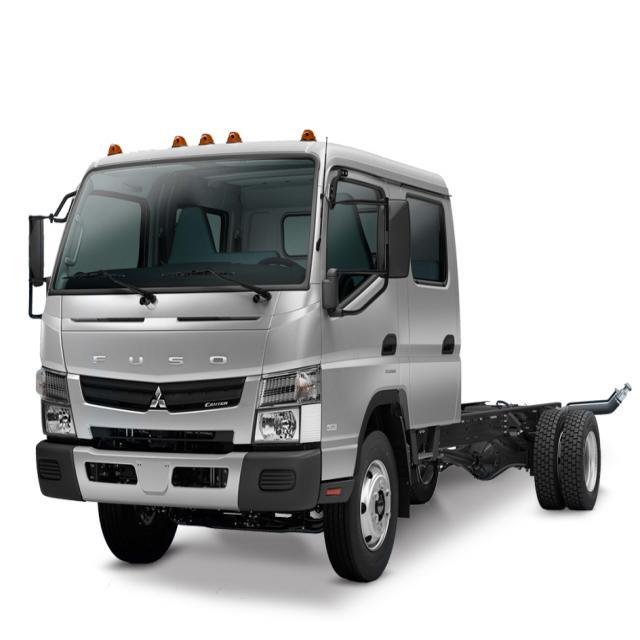truck: (22, 131, 638, 578)
